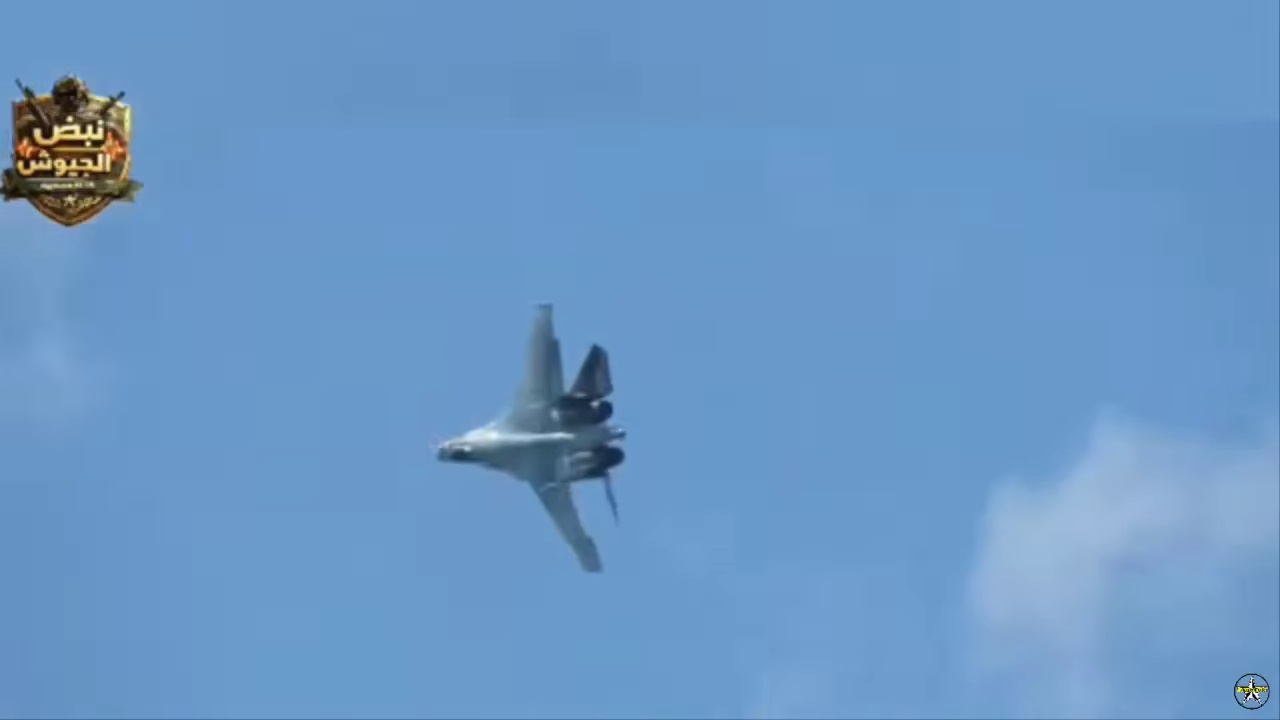Su35: (424, 291, 646, 582)
